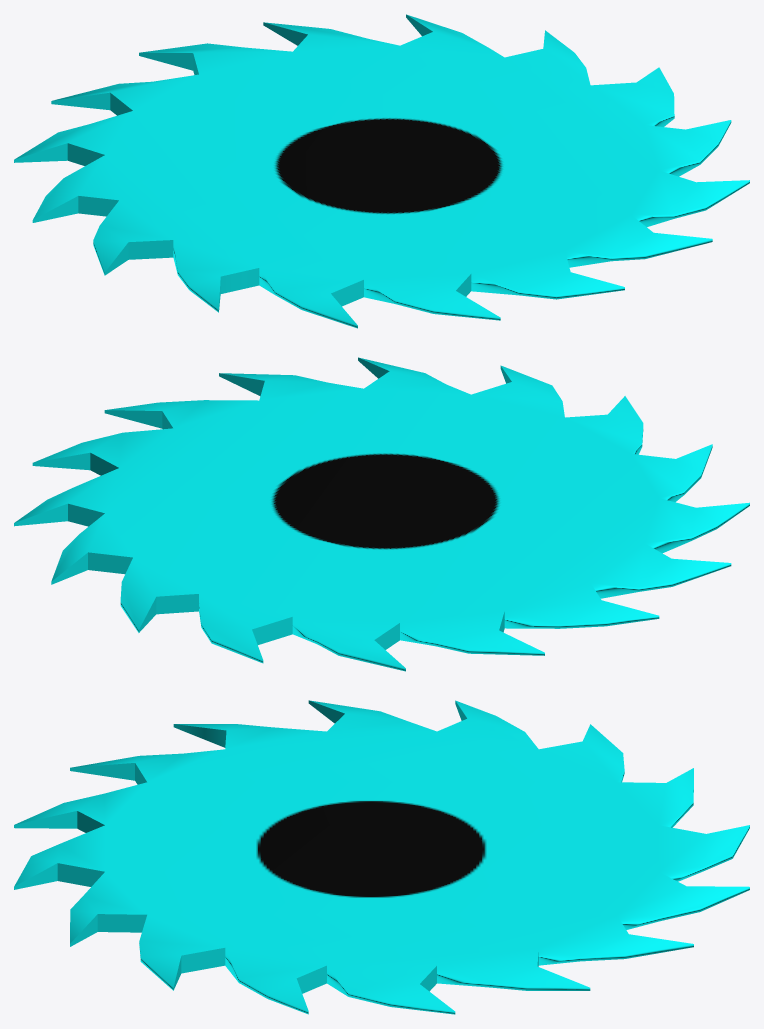
Rendered from burke_saw 1.fbx.
The picture shows the model from 3 angles, top to bottom: view 1: azimuth 30°, elevation 25°; view 2: azimuth 150°, elevation 25°; view 3: azimuth 270°, elevation 25°; orthographic projection.
Parts seen in each view (by area): view 1: saw_mb; view 2: saw_mb; view 3: saw_mb.
Boxes of the visible parts, <box> form: saw_mb: <box>14,14,749,328</box>; saw_mb: <box>14,357,749,671</box>; saw_mb: <box>14,700,749,1014</box>.
Size of the model in its own units: 6.72 by 0.1808 by 6.72.
